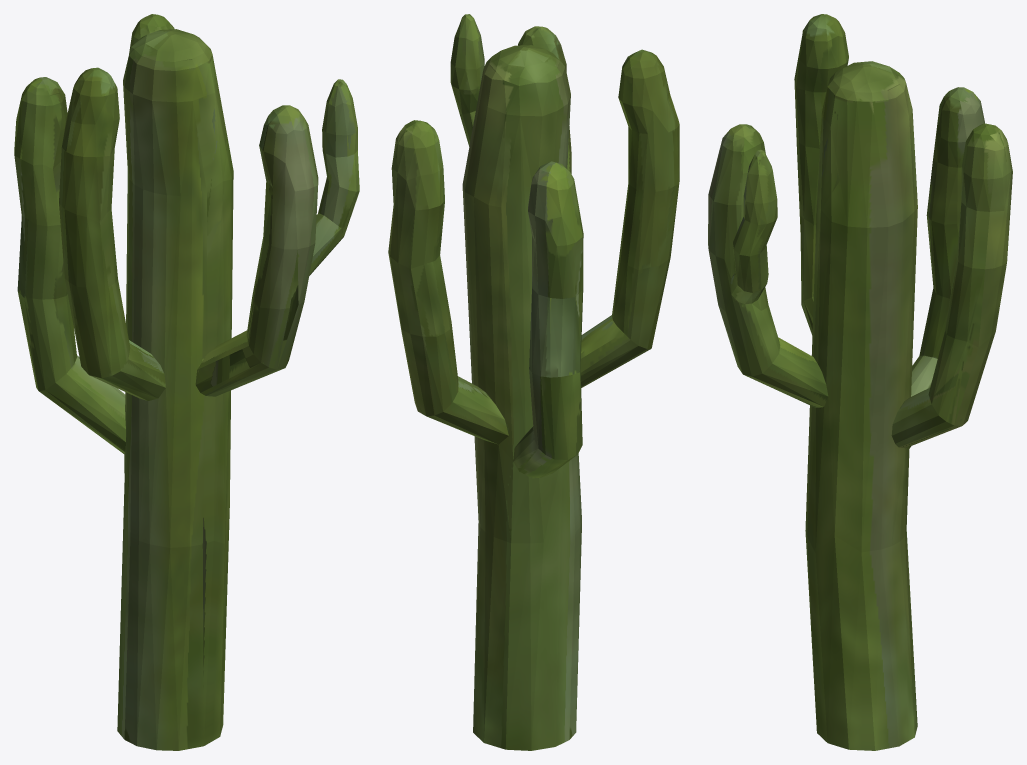
Rendered from cactus1lod1.dae.
3 renders of one model, left to right at view 1: azimuth 30°, elevation 25°; view 2: azimuth 150°, elevation 25°; view 3: azimuth 270°, elevation 25°, orthographic. The views are drawn at different scales.
Visible parts, largest first — view 1: Model_001; view 2: Model_001; view 3: Model_001.
Part boxes in pixels (left/top/right/bottom): Model_001: left=14, top=14, right=359, bottom=750; Model_001: left=388, top=14, right=679, bottom=750; Model_001: left=708, top=14, right=1012, bottom=750.
Bounding box in the file's own units: 0.4032 × 0.4272 × 1.03.
1 material, 1 textured.
